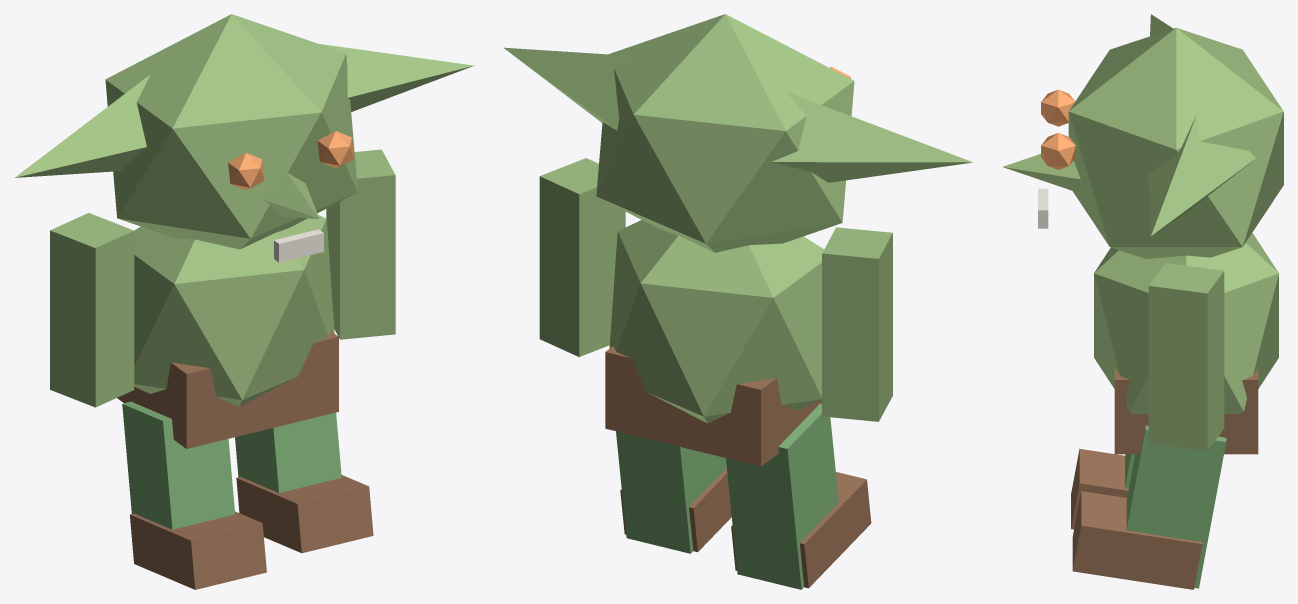
Rendered from npcpose_goblin_walk_07.glb.
The picture shows the model from 3 angles, left to right: view 1: azimuth 30°, elevation 25°; view 2: azimuth 150°, elevation 25°; view 3: azimuth 270°, elevation 25°; orthographic projection. The views are drawn at different scales.
Parts seen in each view (by area): view 1: npcpose; view 2: npcpose; view 3: npcpose.
Boxes of the visible parts, x1,y1,x2,y2 form: npcpose: [15, 14, 473, 589]; npcpose: [503, 14, 973, 589]; npcpose: [1003, 14, 1283, 589].
Bounding box in the file's own units: 1.03 × 1.14 × 0.5501.
